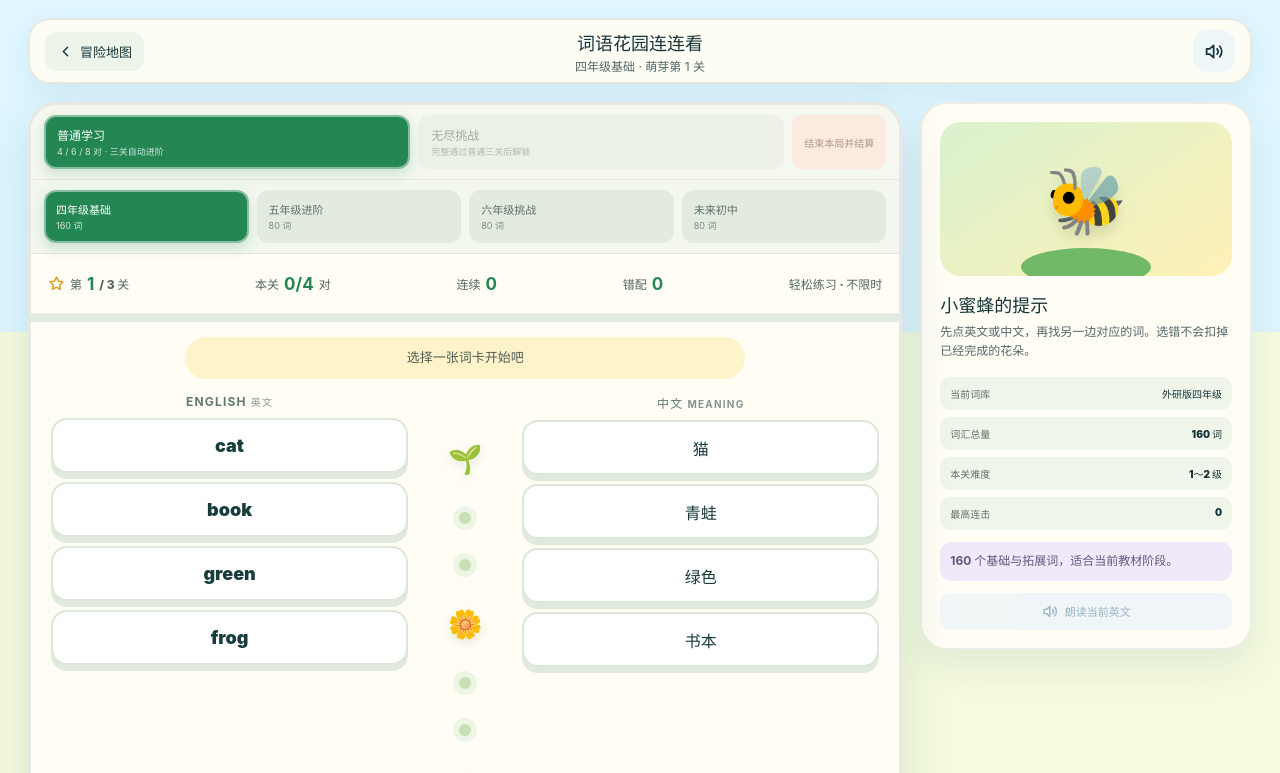
Test: MatchGamePage › gives mismatches gentle feedback and eliminates a correct English-Chinese pair
Click the button with aria-label "cat 英文卡" at [230, 446], box [51,418,408,473]
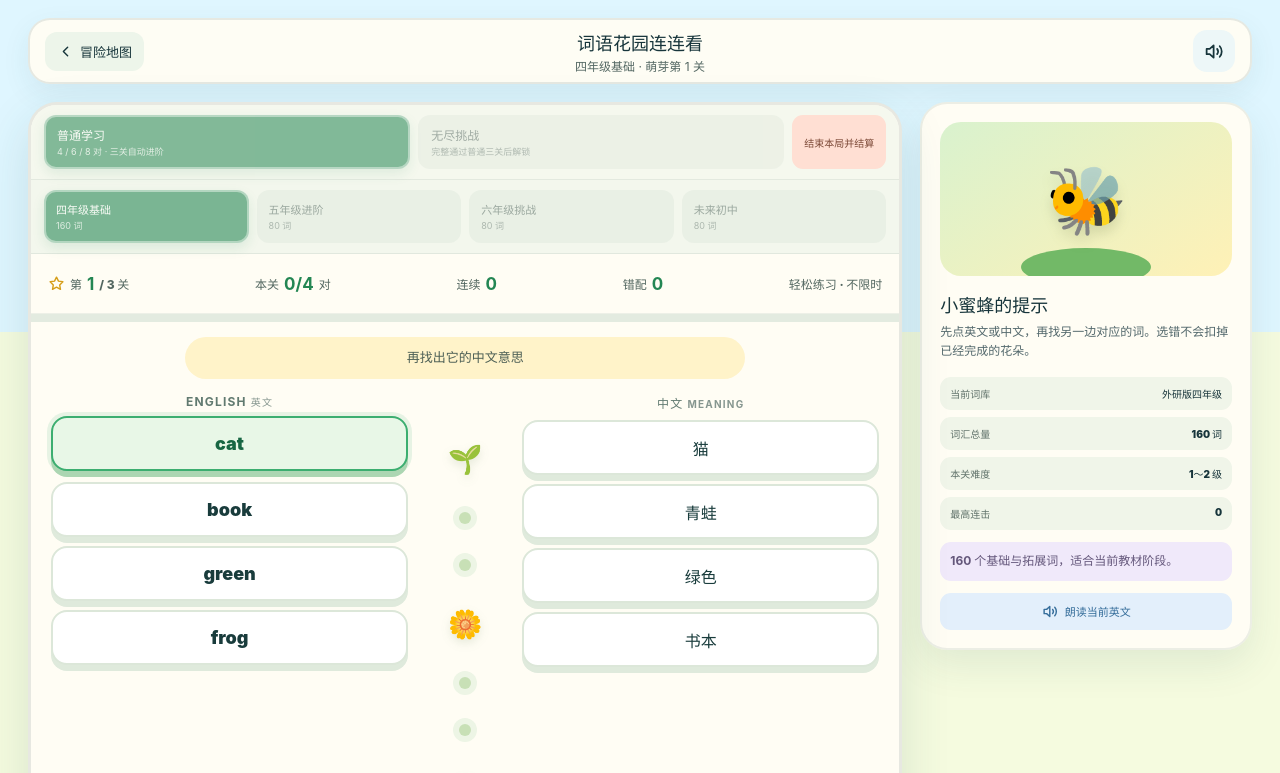
Click the button with aria-label "书本 中文卡" at [701, 640], box [522,612,879,667]
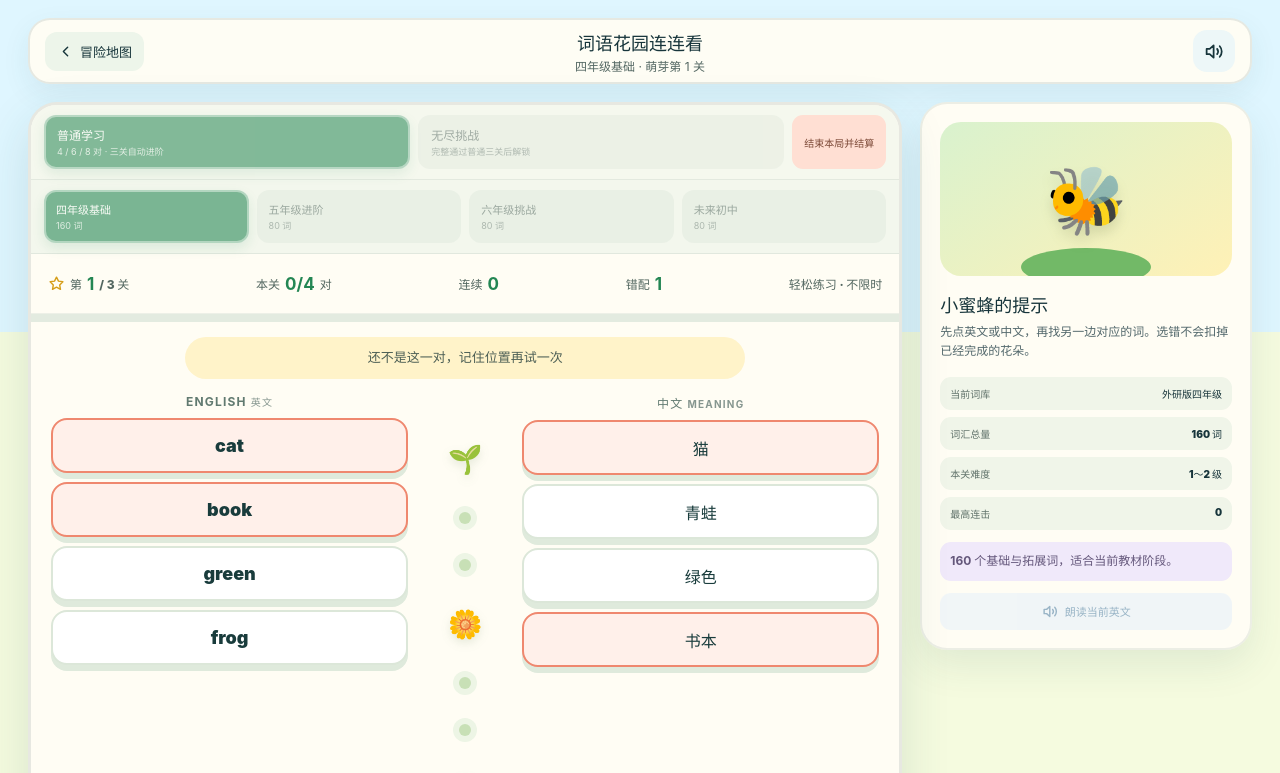
Expected: the text "还不是这一对，记住位置再试一次" is shown, [185,337,745,379]
Expected: the element showing "第 1 / 3 关 本关 0/4 对 连续 0 错配 1 轻松练习 · 不限时" is shown, [31,254,899,314]
Click the button with aria-label "cat 英文卡" at [230, 446], box [51,418,408,473]
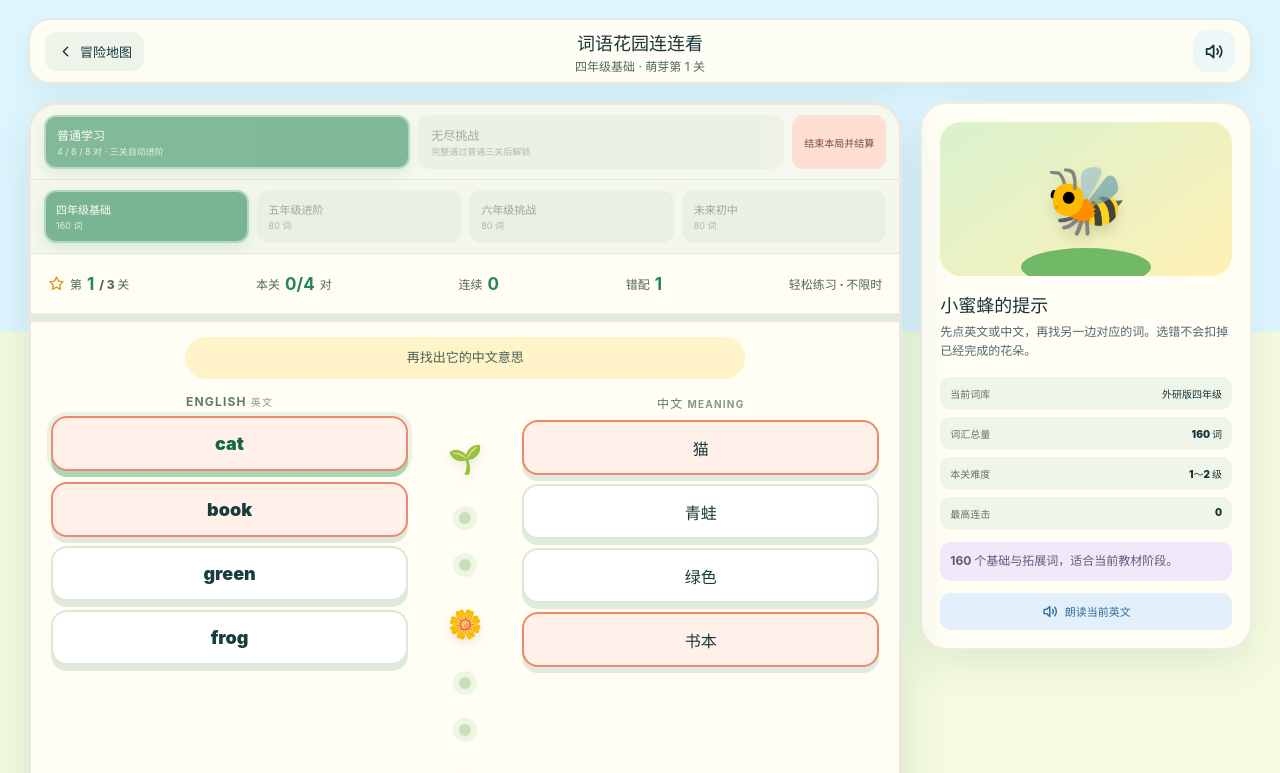
Click the button named "猫 中文卡" at [701, 448], box [522,420,879,475]
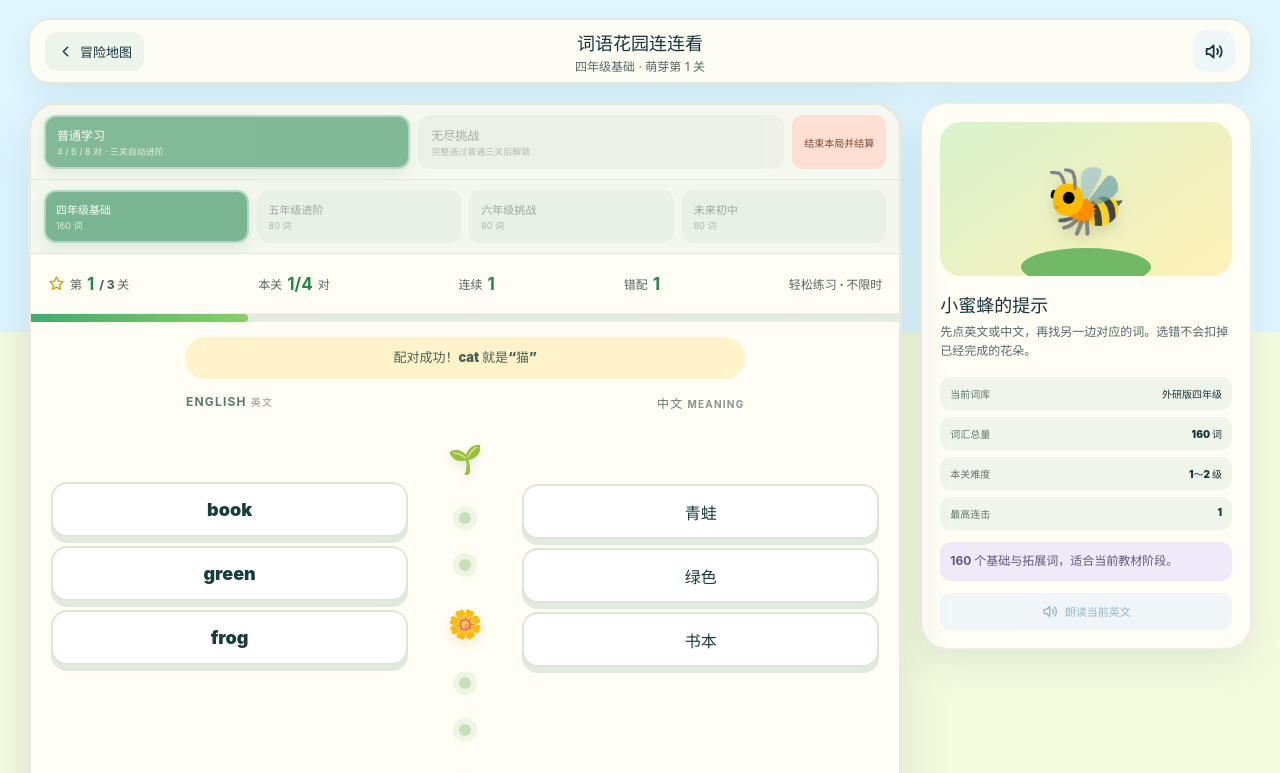
Expected: the element showing "第 1 / 3 关 本关 1/4 对 连续 1 错配 1 轻松练习 · 不限时" is shown, [31,254,899,314]
